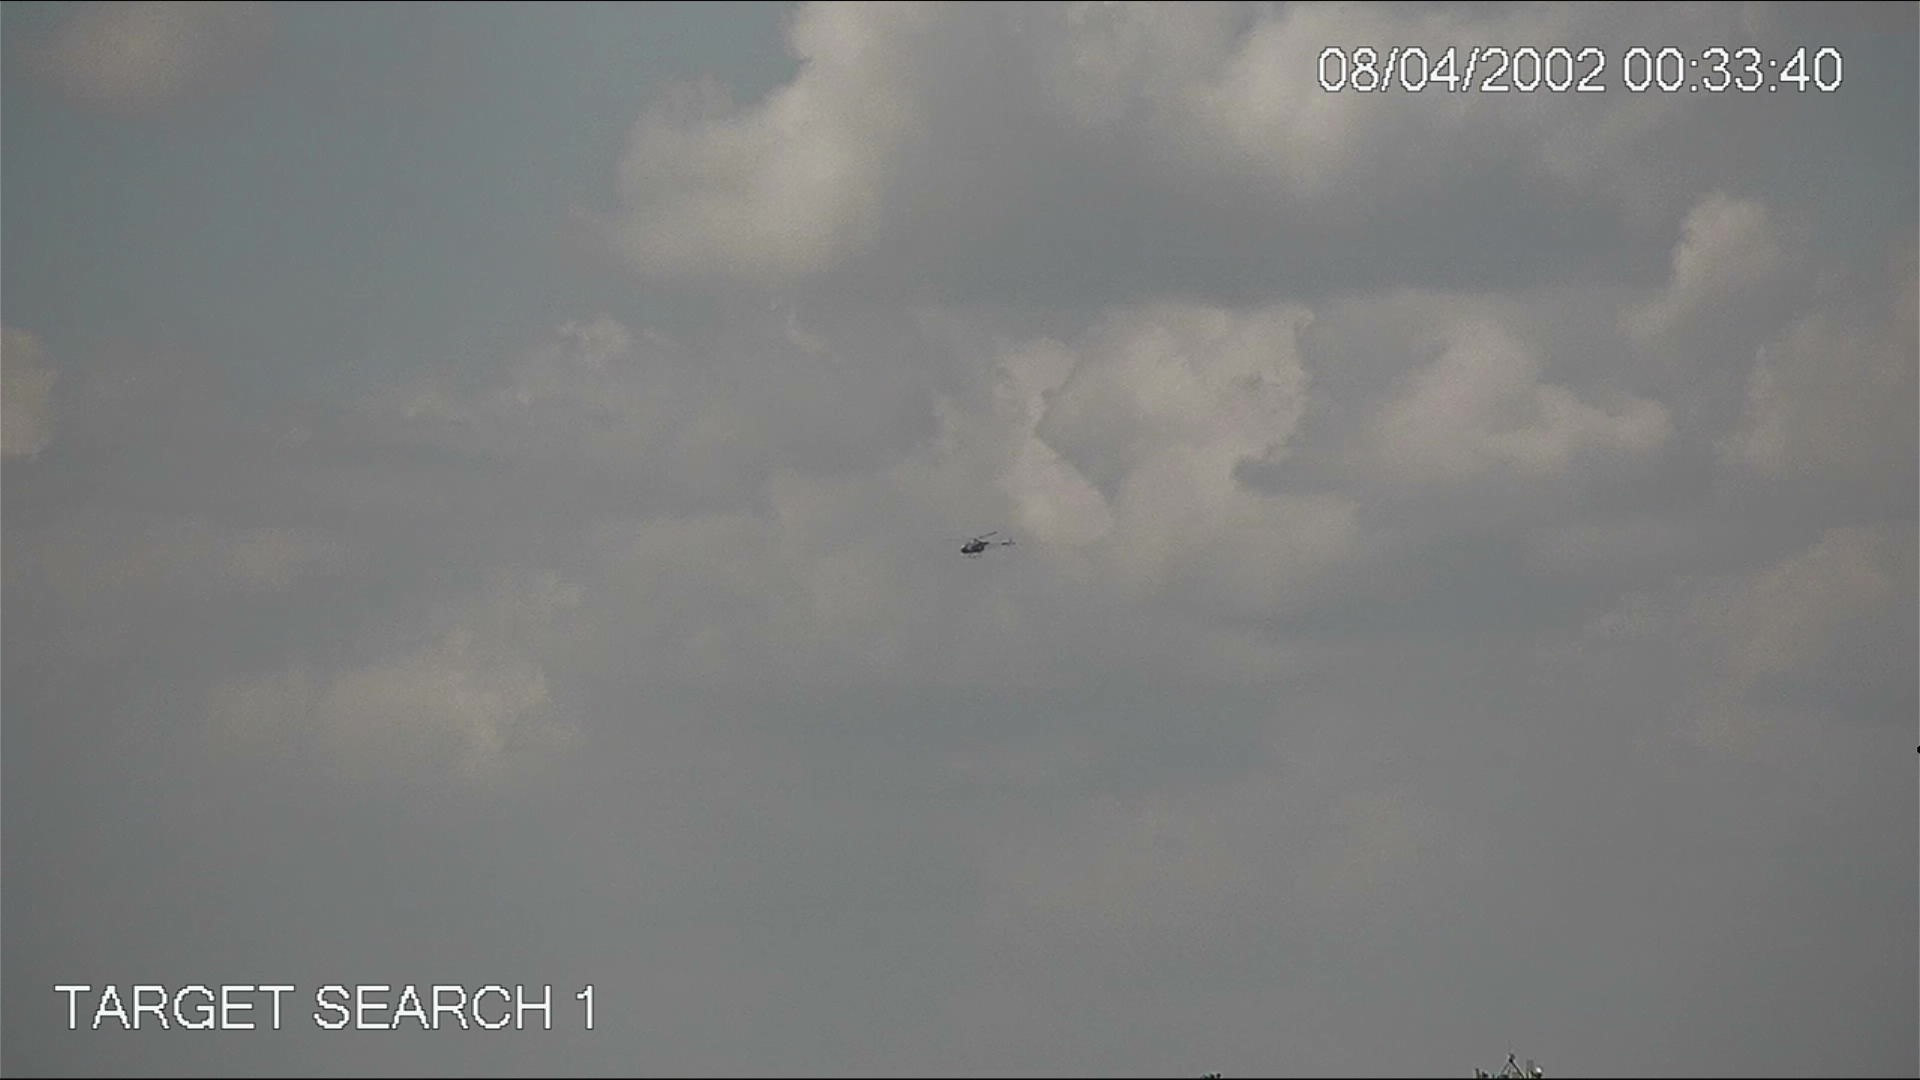SU_30: (953, 529, 1022, 564)
